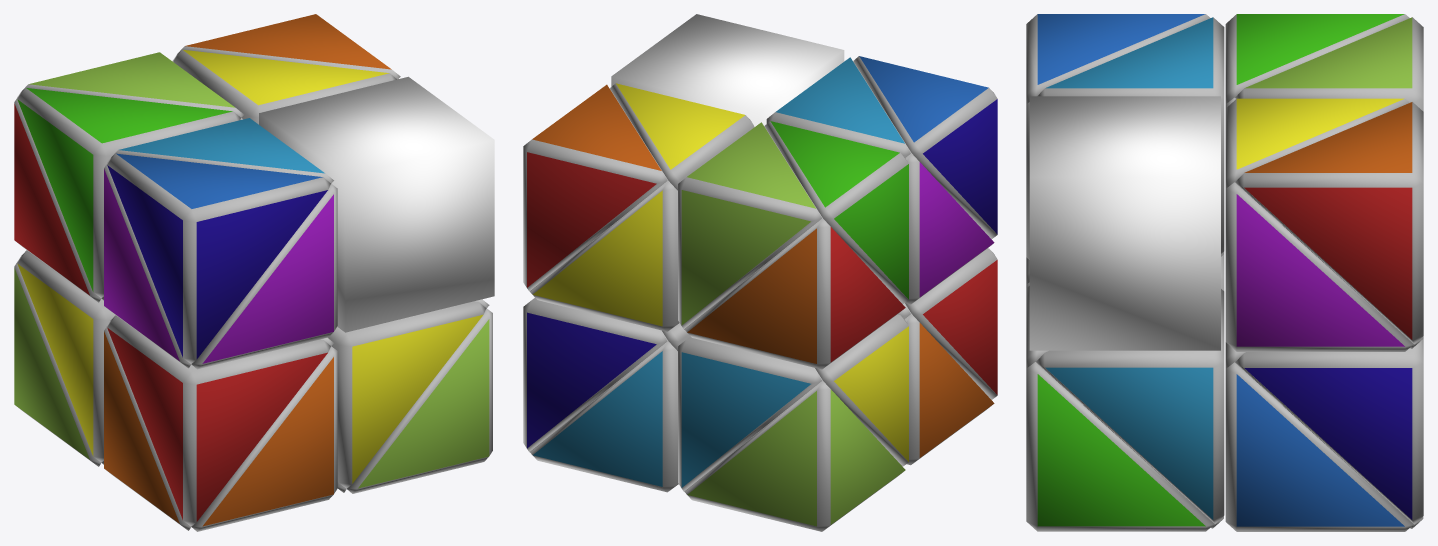
Rendered from asset.glb.
The picture shows the model from 3 angles, left to right: view 1: azimuth 30°, elevation 25°; view 2: azimuth 150°, elevation 25°; view 3: azimuth 270°, elevation 25°; orthographic projection. The views are drawn at different scales.
Visible parts, largest first — view 1: Cube.037, Cube.021, Cube.017, Cube.025, Cube.009, Cube.022, Cube.018, Cube.010, Cube.038, Cube.029, Cube.028, Cube.041 (+5 smaller); view 2: Cube.041, Cube.028, Orange, Cube.027, Cube.037, Cube.021, Cube.025, Cube.040, Cube.036, Cube.032, Cube.035, Cube.038 (+5 smaller); view 3: Cube.037, Orange, Cube.011, Cube.035, Cube.010, Cube.030, Cube.034, Cube.023, Cube.027, Cube.029, Cube.025, Cube.021 (+2 smaller).
Part boxes in pixels (<box>): Cube.037: <box>259,76,494,332</box>; Cube.021: <box>107,153,330,363</box>; Cube.017: <box>107,316,330,526</box>; Cube.025: <box>17,88,240,298</box>; Cube.009: <box>328,301,486,488</box>; Cube.022: <box>191,184,337,369</box>; Cube.018: <box>191,346,337,531</box>; Cube.010: <box>347,308,492,493</box>; Cube.038: <box>17,252,115,462</box>; Cube.029: <box>174,49,396,124</box>; Cube.028: <box>14,94,101,302</box>; Cube.041: <box>14,258,101,466</box>; Cube.041: <box>685,381,905,531</box>; Cube.028: <box>684,218,905,369</box>; Orange: <box>523,84,667,291</box>; Cube.027: <box>678,122,821,328</box>; Cube.037: <box>611,14,844,126</box>; Cube.021: <box>853,56,997,239</box>; Cube.025: <box>764,121,908,304</box>; Cube.040: <box>678,336,821,491</box>; Cube.036: <box>530,341,678,492</box>; Cube.032: <box>530,181,679,331</box>; Cube.035: <box>523,298,667,451</box>; Cube.038: <box>815,314,908,466</box>; Cube.037: <box>1029,96,1220,350</box>; Orange: <box>1235,102,1423,344</box>; Cube.011: <box>1036,289,1224,523</box>; Cube.035: <box>1235,336,1423,524</box>; Cube.010: <box>1026,362,1214,531</box>; Cube.030: <box>1225,182,1413,351</box>; Cube.034: <box>1225,362,1413,531</box>; Cube.023: <box>1037,17,1224,253</box>; Cube.027: <box>1235,17,1423,111</box>; Cube.029: <box>1225,98,1409,224</box>; Cube.025: <box>1225,14,1409,103</box>; Cube.021: <box>1026,14,1210,103</box>.
Bounding box in the file's own units: 3.85 × 3.86 × 3.85.
